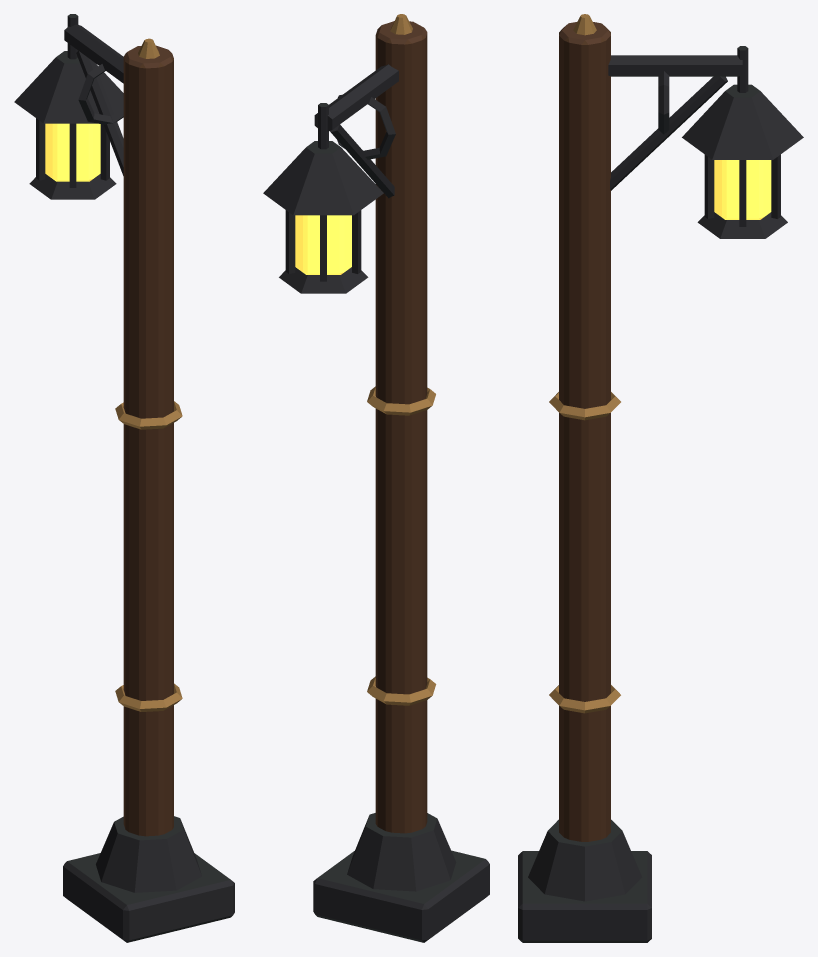
The model's file is prop_dock_lantern_a.glb.
The picture shows the model from 3 angles, left to right: view 1: azimuth 30°, elevation 25°; view 2: azimuth 150°, elevation 25°; view 3: azimuth 270°, elevation 25°; orthographic projection. The views are drawn at different scales.
Visible parts, largest first — view 1: lantern_post, lantern_arm, lantern_glass, lantern_finial; view 2: lantern_post, lantern_arm, lantern_glass, lantern_finial; view 3: lantern_post, lantern_arm, lantern_glass, lantern_finial.
Boxes of the visible parts, x1,y1,x2,y2 form: lantern_post: (123, 45, 173, 836); lantern_arm: (14, 14, 234, 942); lantern_glass: (45, 123, 100, 181); lantern_finial: (115, 38, 182, 711); lantern_post: (375, 21, 427, 833); lantern_arm: (263, 64, 489, 942); lantern_glass: (295, 215, 351, 274); lantern_finial: (367, 14, 436, 705); lantern_post: (559, 22, 610, 841); lantern_arm: (518, 46, 803, 942); lantern_glass: (714, 160, 771, 219); lantern_finial: (549, 14, 620, 713).
Bounding box in the file's own units: 0.3399 × 2.52 × 0.7251.
